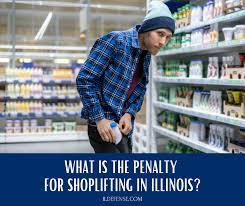shoplifting: (65, 81, 156, 154)
